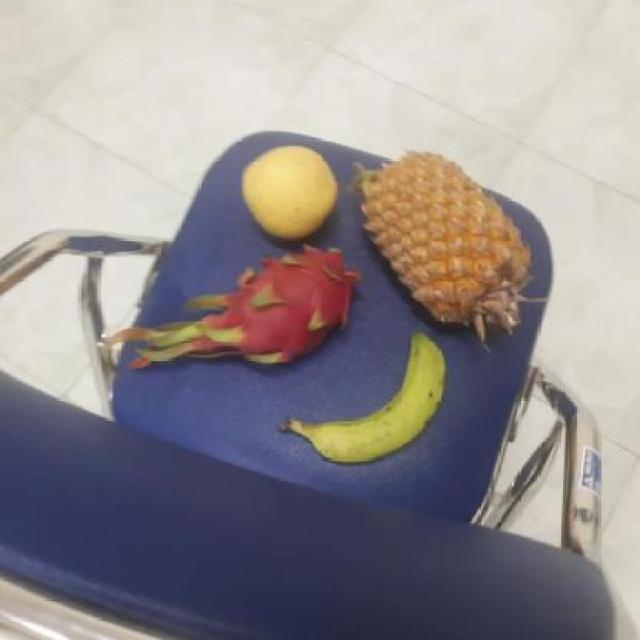banana: (278, 333, 444, 464)
dragon fruit: (212, 246, 356, 366)
pear: (238, 144, 340, 241)
pineapple: (339, 145, 530, 340)
